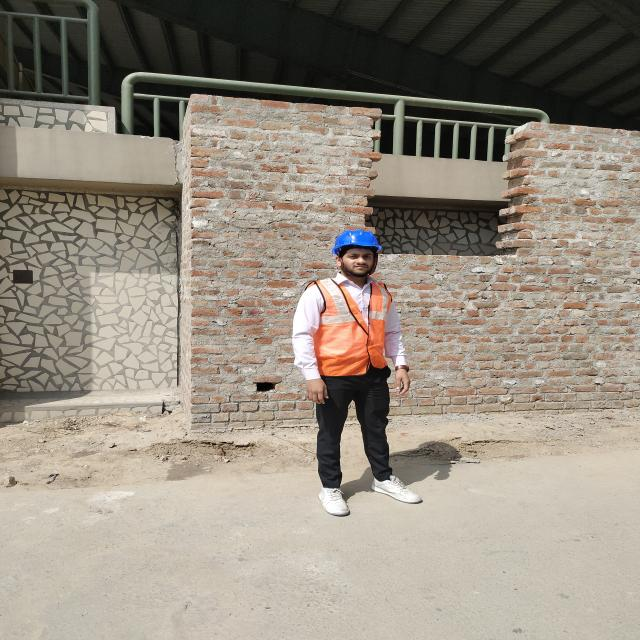safe: (294, 228, 409, 516)
